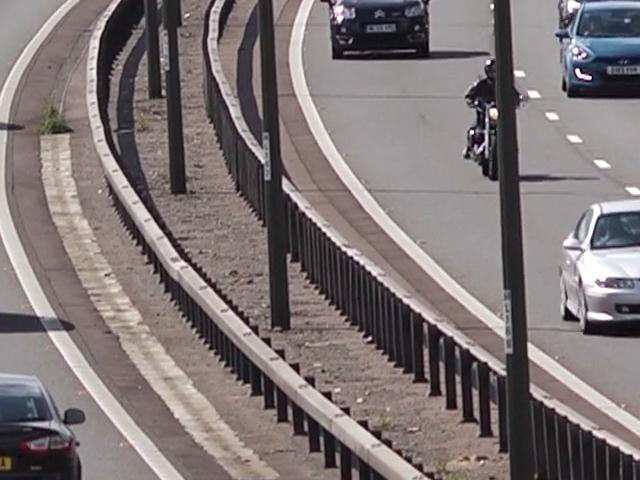car: (563, 191, 640, 336), (0, 368, 95, 480), (556, 0, 640, 95), (319, 0, 441, 63), (550, 0, 640, 23)
motorcycle: (463, 53, 527, 173)
